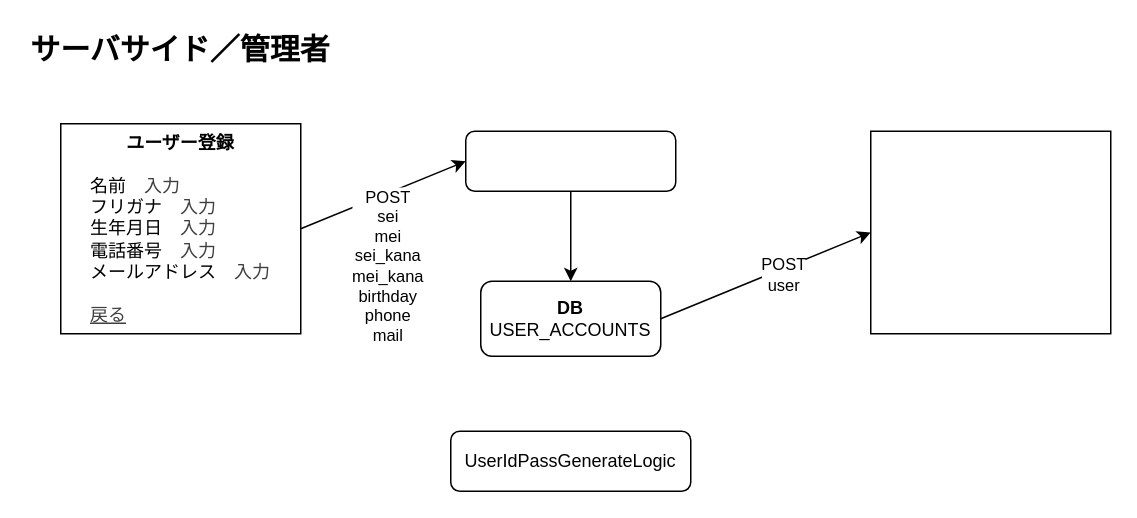
Image size: 1137x518. Some labels were removed from this diagram. The centre of each missing label's shape, as x and y in pixels:
RegisterUserServlet: point 570,160
ユーザー登録結果 ユーザーID 表示 パスワード 表示 メール送信ボタン 戻る: point 990,232
